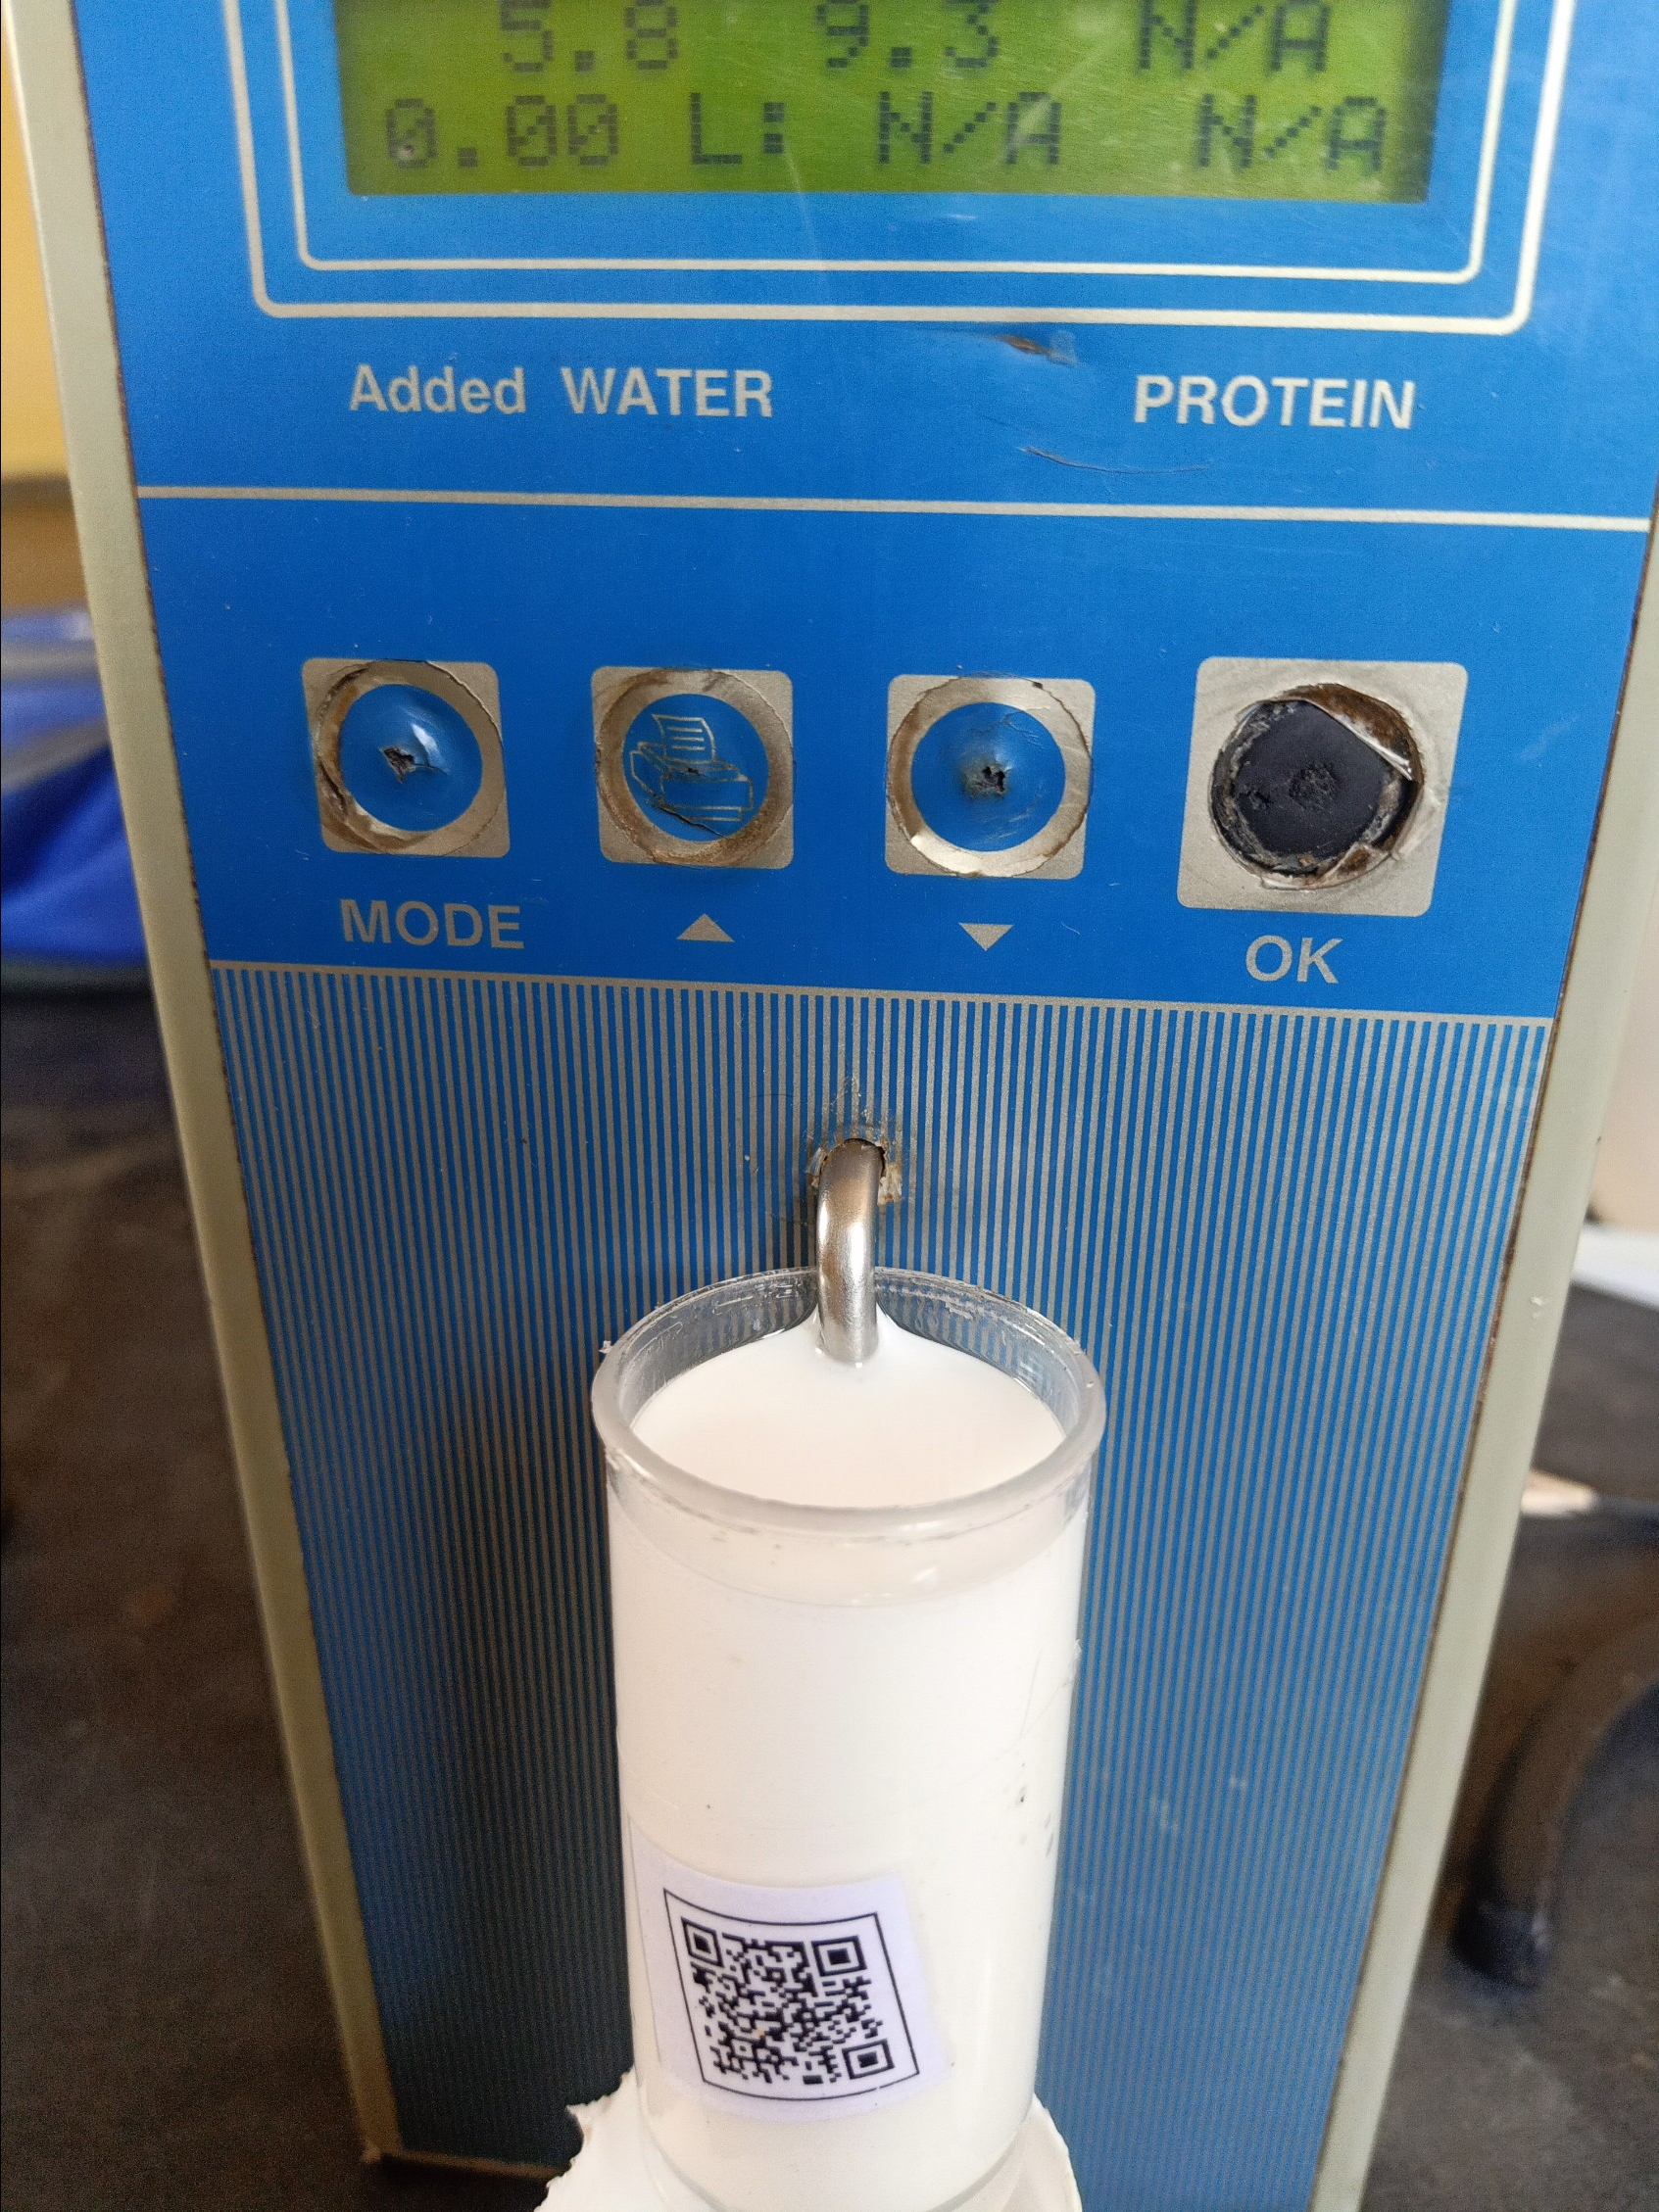qr: (605, 1834, 962, 2135)
